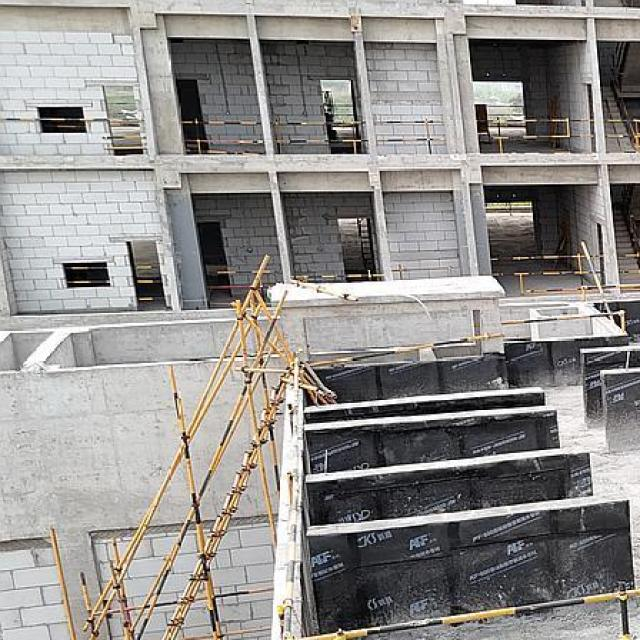edge_guardrail: (280, 355, 640, 640), (303, 331, 507, 370), (489, 254, 605, 296), (476, 118, 594, 153), (272, 120, 369, 154), (178, 120, 266, 156), (501, 308, 626, 333), (580, 240, 616, 323), (373, 120, 446, 154), (207, 270, 273, 290), (292, 268, 385, 282), (603, 118, 640, 152), (134, 264, 164, 302), (390, 264, 460, 279), (581, 284, 640, 300), (63, 266, 110, 284), (102, 135, 148, 151), (0, 117, 146, 122), (487, 105, 524, 116), (331, 103, 354, 117)
